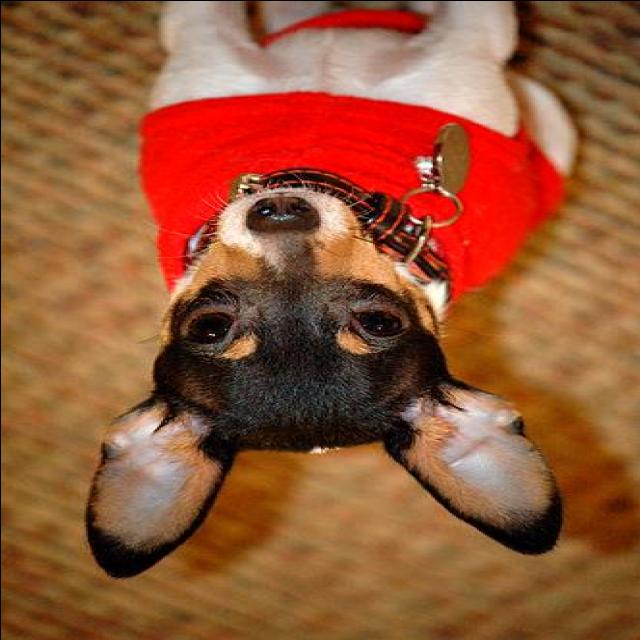toy_terrier: (82, 2, 596, 582)
